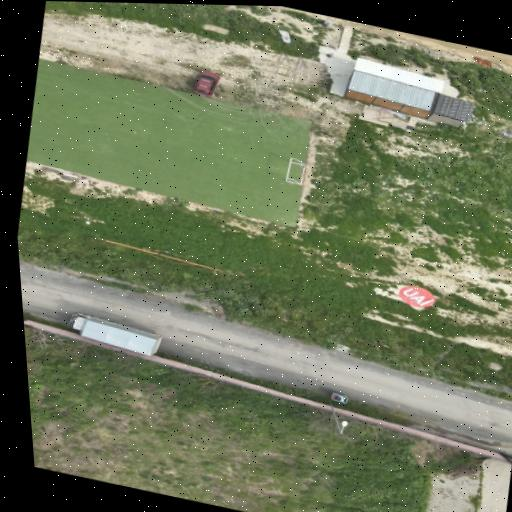car: (192, 71, 219, 97), (330, 393, 347, 403)
truck: (70, 313, 160, 355)
uai: (398, 286, 434, 308)
